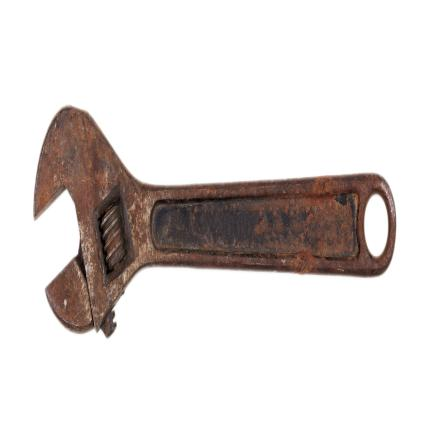karat: (34, 106, 396, 337), (151, 192, 359, 258), (46, 247, 93, 333), (100, 202, 126, 272)
